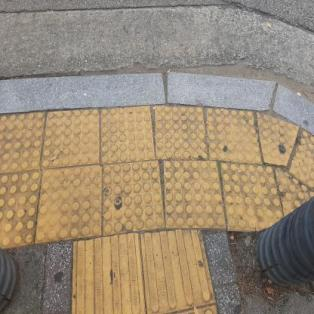Podoctatil: (0, 100, 313, 313)
